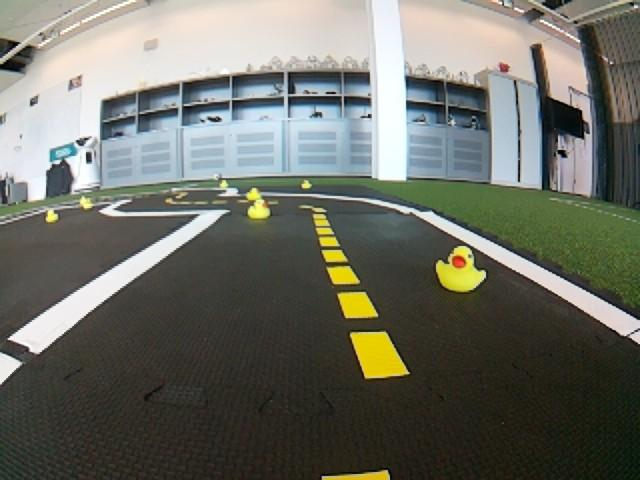Duckies: (434, 244, 486, 293), (246, 199, 270, 219), (245, 188, 262, 199), (45, 210, 57, 222), (80, 196, 93, 205), (82, 202, 92, 210), (302, 181, 312, 188), (220, 181, 228, 189)
